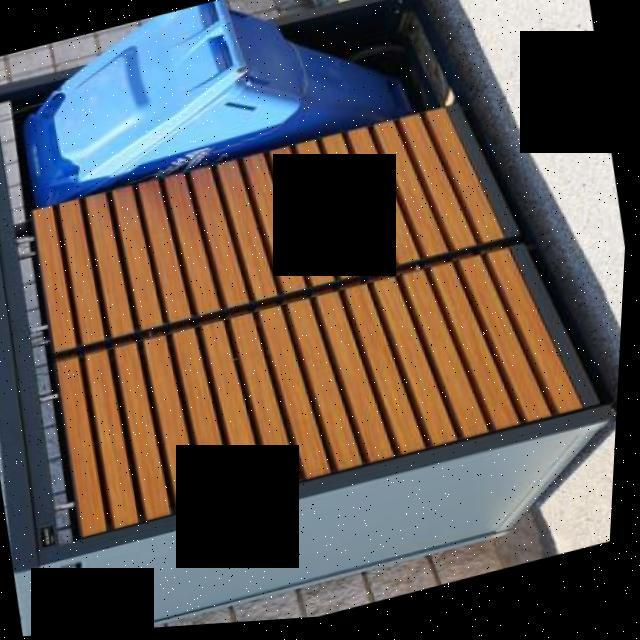bin: (0, 0, 454, 216)
